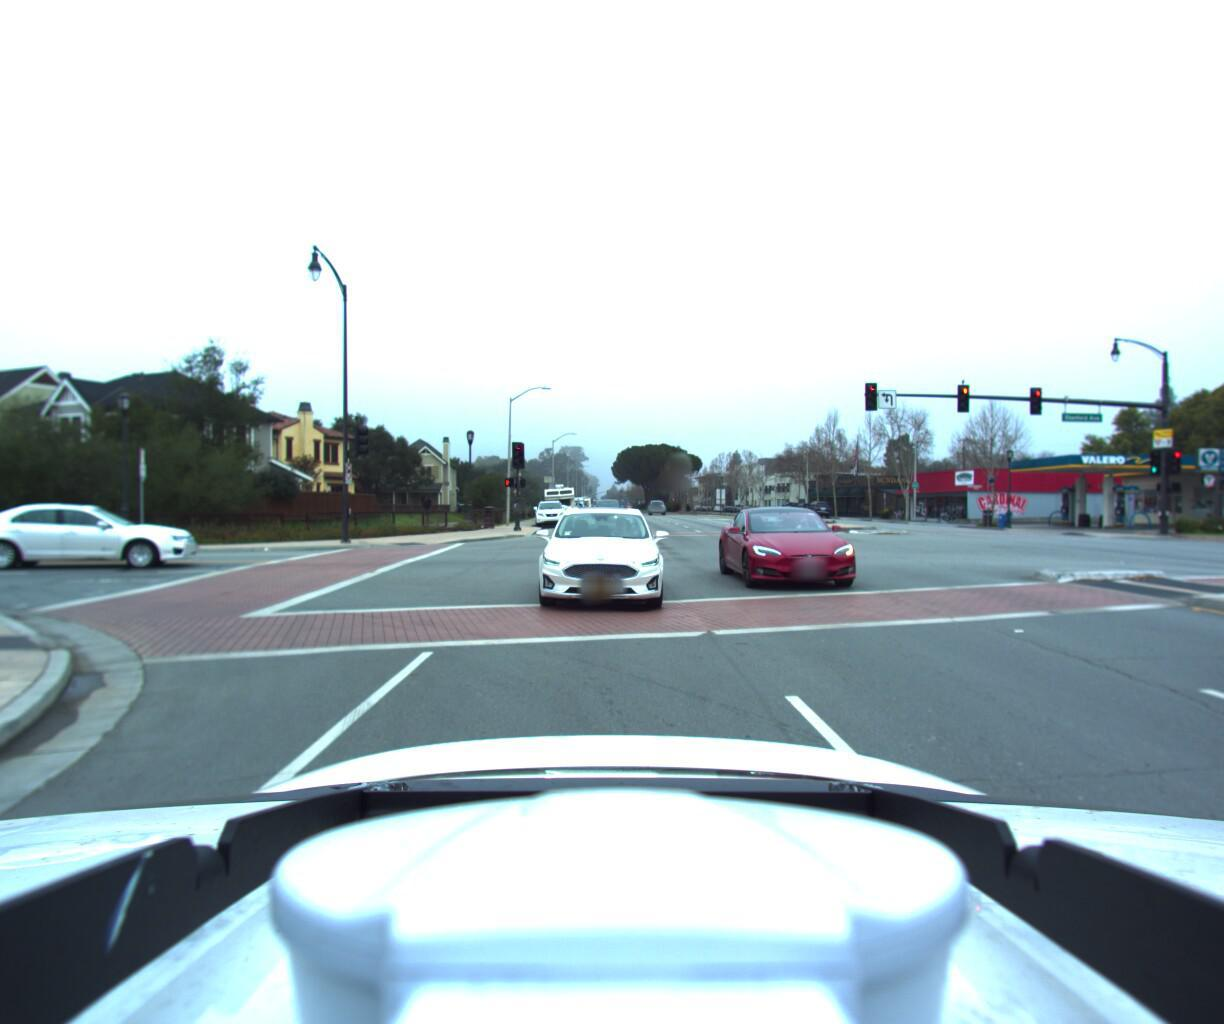bicycle: (935, 508, 959, 522)
car: (719, 500, 896, 600), (0, 501, 208, 576), (524, 500, 663, 611), (531, 498, 566, 528), (596, 499, 621, 523)
other_vehicle: (540, 483, 574, 522)
